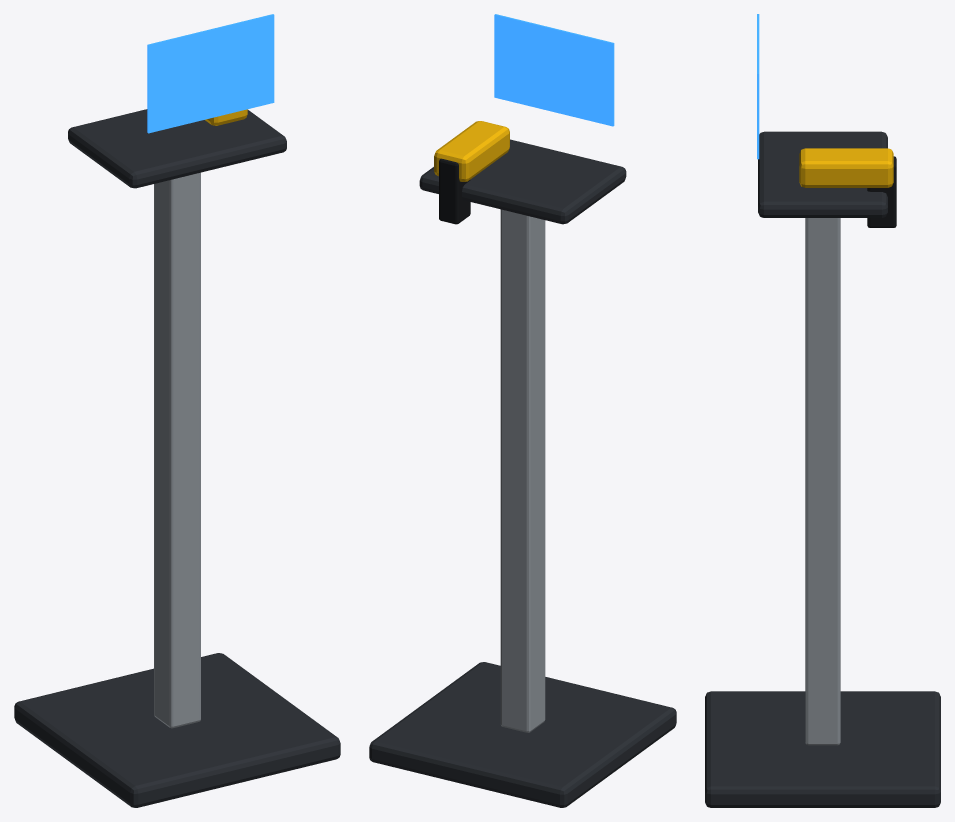
File: scanner.glb
3 renders of one model, left to right at view 1: azimuth 30°, elevation 25°; view 2: azimuth 150°, elevation 25°; view 3: azimuth 270°, elevation 25°, orthographic. The views are drawn at different scales.
Visible parts, largest first — view 1: scanner; view 2: scanner; view 3: scanner.
Part boxes in pixels (left/top/right/bottom): scanner: left=14, top=14, right=340, bottom=807; scanner: left=369, top=14, right=676, bottom=807; scanner: left=705, top=14, right=940, bottom=807.
Size of the model in its own units: 0.4 by 1.34 by 0.4.
